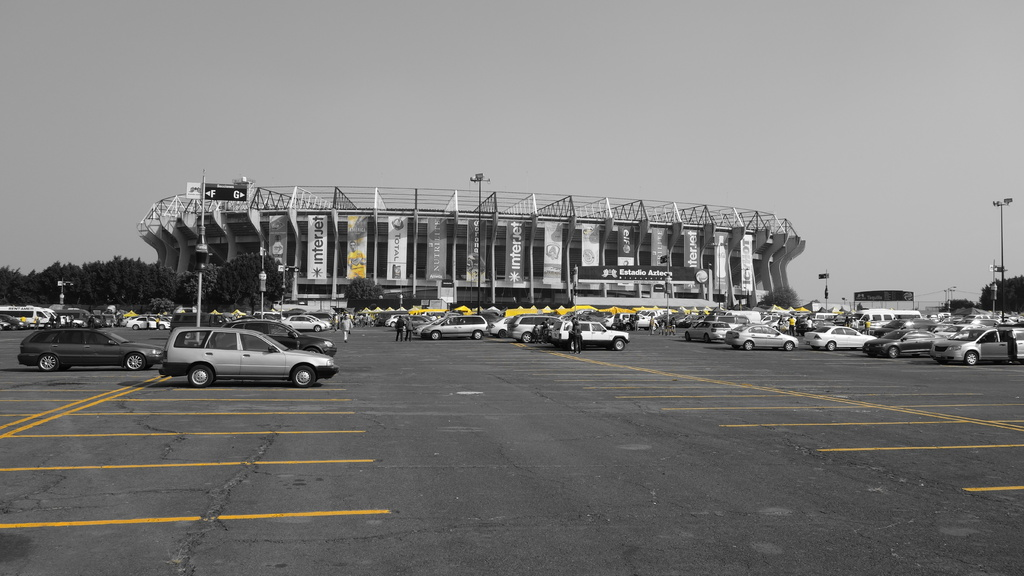car: (151, 308, 360, 404), (8, 323, 167, 380), (233, 310, 345, 362), (930, 318, 1024, 378), (405, 301, 493, 348), (865, 323, 944, 365), (547, 316, 636, 353), (730, 319, 805, 361), (802, 315, 882, 354), (685, 316, 741, 350), (287, 306, 343, 337), (114, 311, 167, 336)
